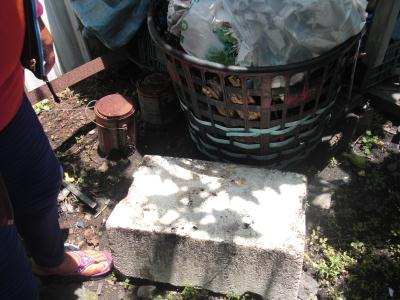bottle: (91, 93, 141, 156)
plastic_bag: (166, 1, 363, 64)
styrofoam: (105, 151, 310, 300)
